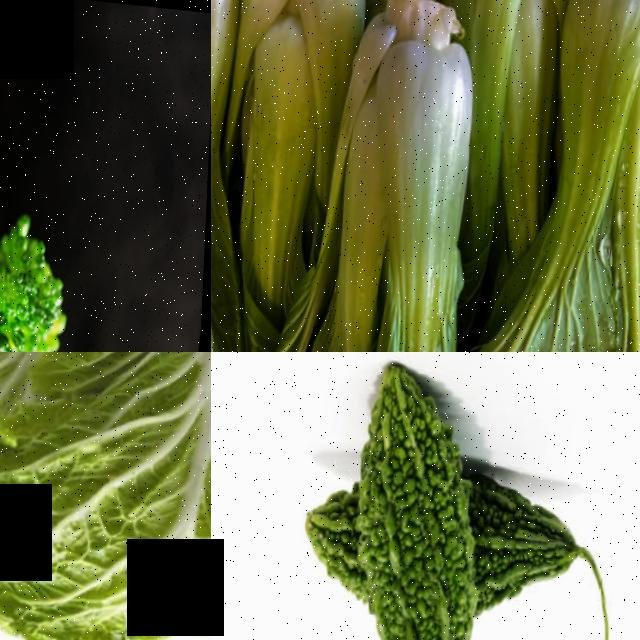bitter gourd: (317, 354, 503, 640), (481, 474, 594, 640)
bok choy: (255, 0, 498, 352), (486, 0, 640, 352), (230, 0, 359, 256)
broccoli: (0, 73, 103, 352)
cabbage: (0, 352, 211, 640)
